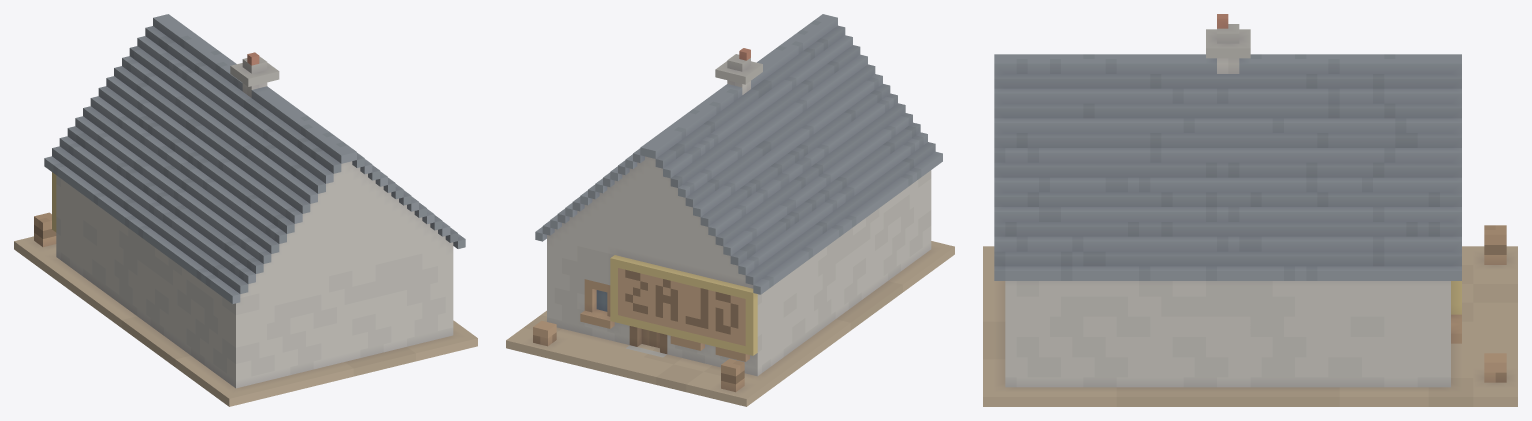
The model's file is glass_smelter.glb.
3 views of the same model, side by side, from view 1: azimuth 30°, elevation 25°; view 2: azimuth 150°, elevation 25°; view 3: azimuth 270°, elevation 25° (orthographic). The views are drawn at different scales.
Parts seen in each view (by area): view 1: glass_smelter; view 2: glass_smelter; view 3: glass_smelter.
Boxes of the visible parts, <box> form: glass_smelter: <box>14,14,477,406</box>; glass_smelter: <box>506,14,954,406</box>; glass_smelter: <box>983,14,1517,406</box>.
Size of the model in its own units: 4 by 3.88 by 6.
